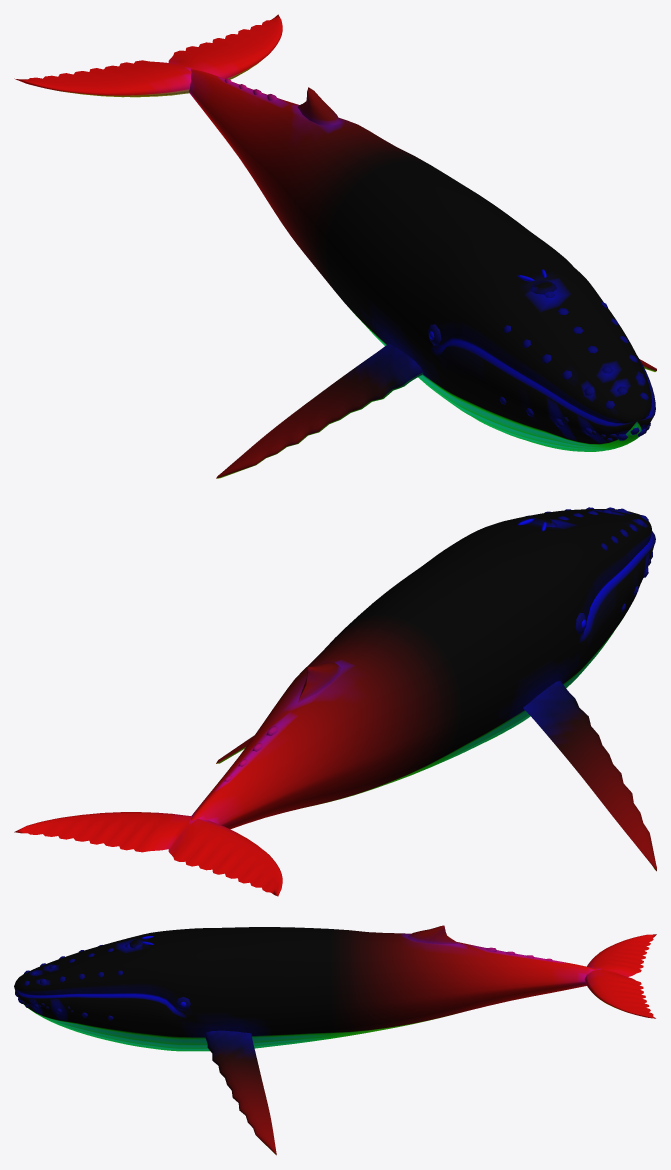
Rendered from whale.glb.
3 renders of one model, top to bottom at view 1: azimuth 30°, elevation 25°; view 2: azimuth 150°, elevation 25°; view 3: azimuth 270°, elevation 25°, orthographic. The views are drawn at different scales.
Visible parts, largest first — view 1: whale; view 2: whale; view 3: whale.
Part boxes in pixels (left/top/right/bottom): whale: left=14, top=14, right=656, bottom=478; whale: left=14, top=507, right=656, bottom=896; whale: left=14, top=925, right=656, bottom=1155.
Size of the model in its own units: 8.82 by 4.66 by 17.
